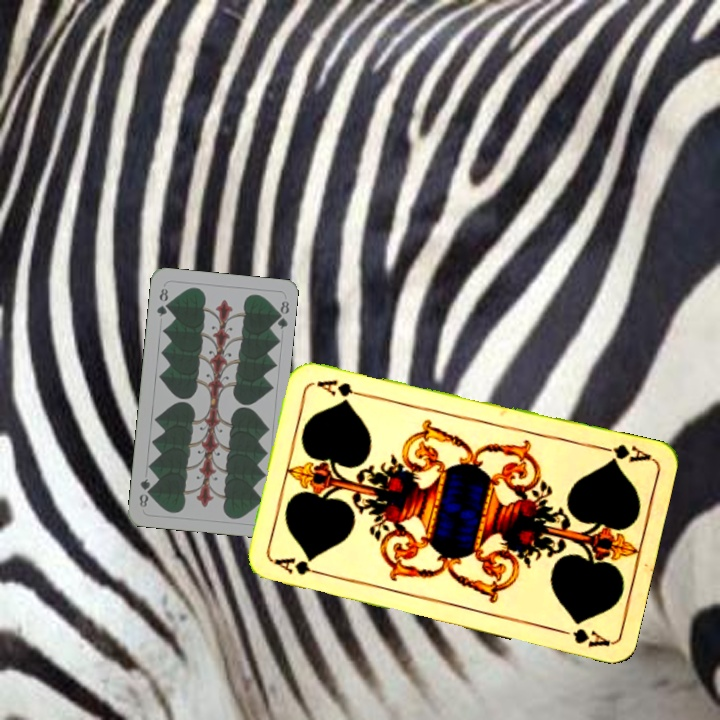G8: (152, 284, 171, 319)
GA: (594, 440, 653, 466), (270, 553, 328, 578)
